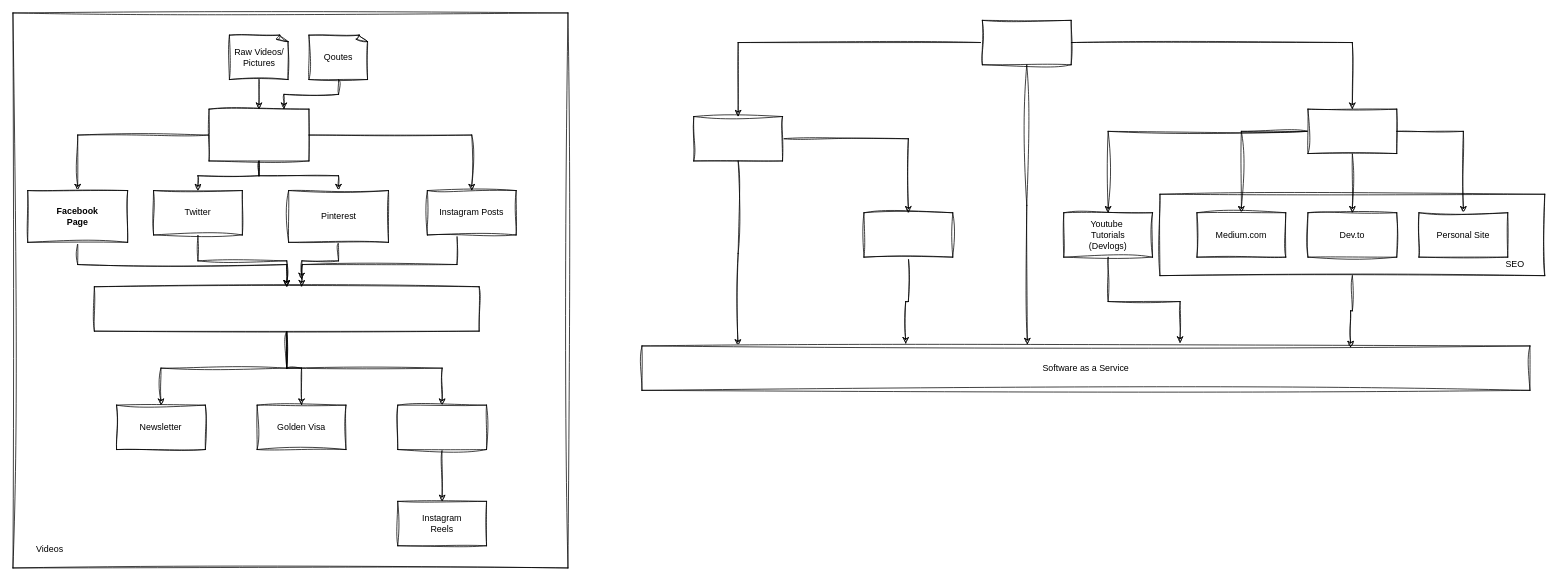
Some shapes in this 1558 by 581 pixel diagram are drawn without their labels. Here are the shapes that lost their labels. From the top down, the centre of each, then its label:
At point 1026,42: "Code".
At point 258,134: "Editing & Scheduling Canva".
At point 738,138: "Reusable Code Snippets".
At point 1352,131: "Lessons Learned".
At point 908,234: "Free Tools".
At point 286,308: "Youtube Longform Videos".
At point 442,427: "Shortform".
